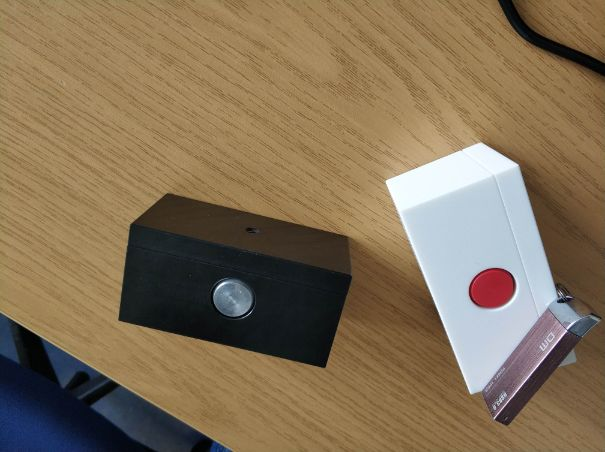black+black+silver: (114, 193, 358, 370)
white+white+red: (383, 140, 578, 397)
